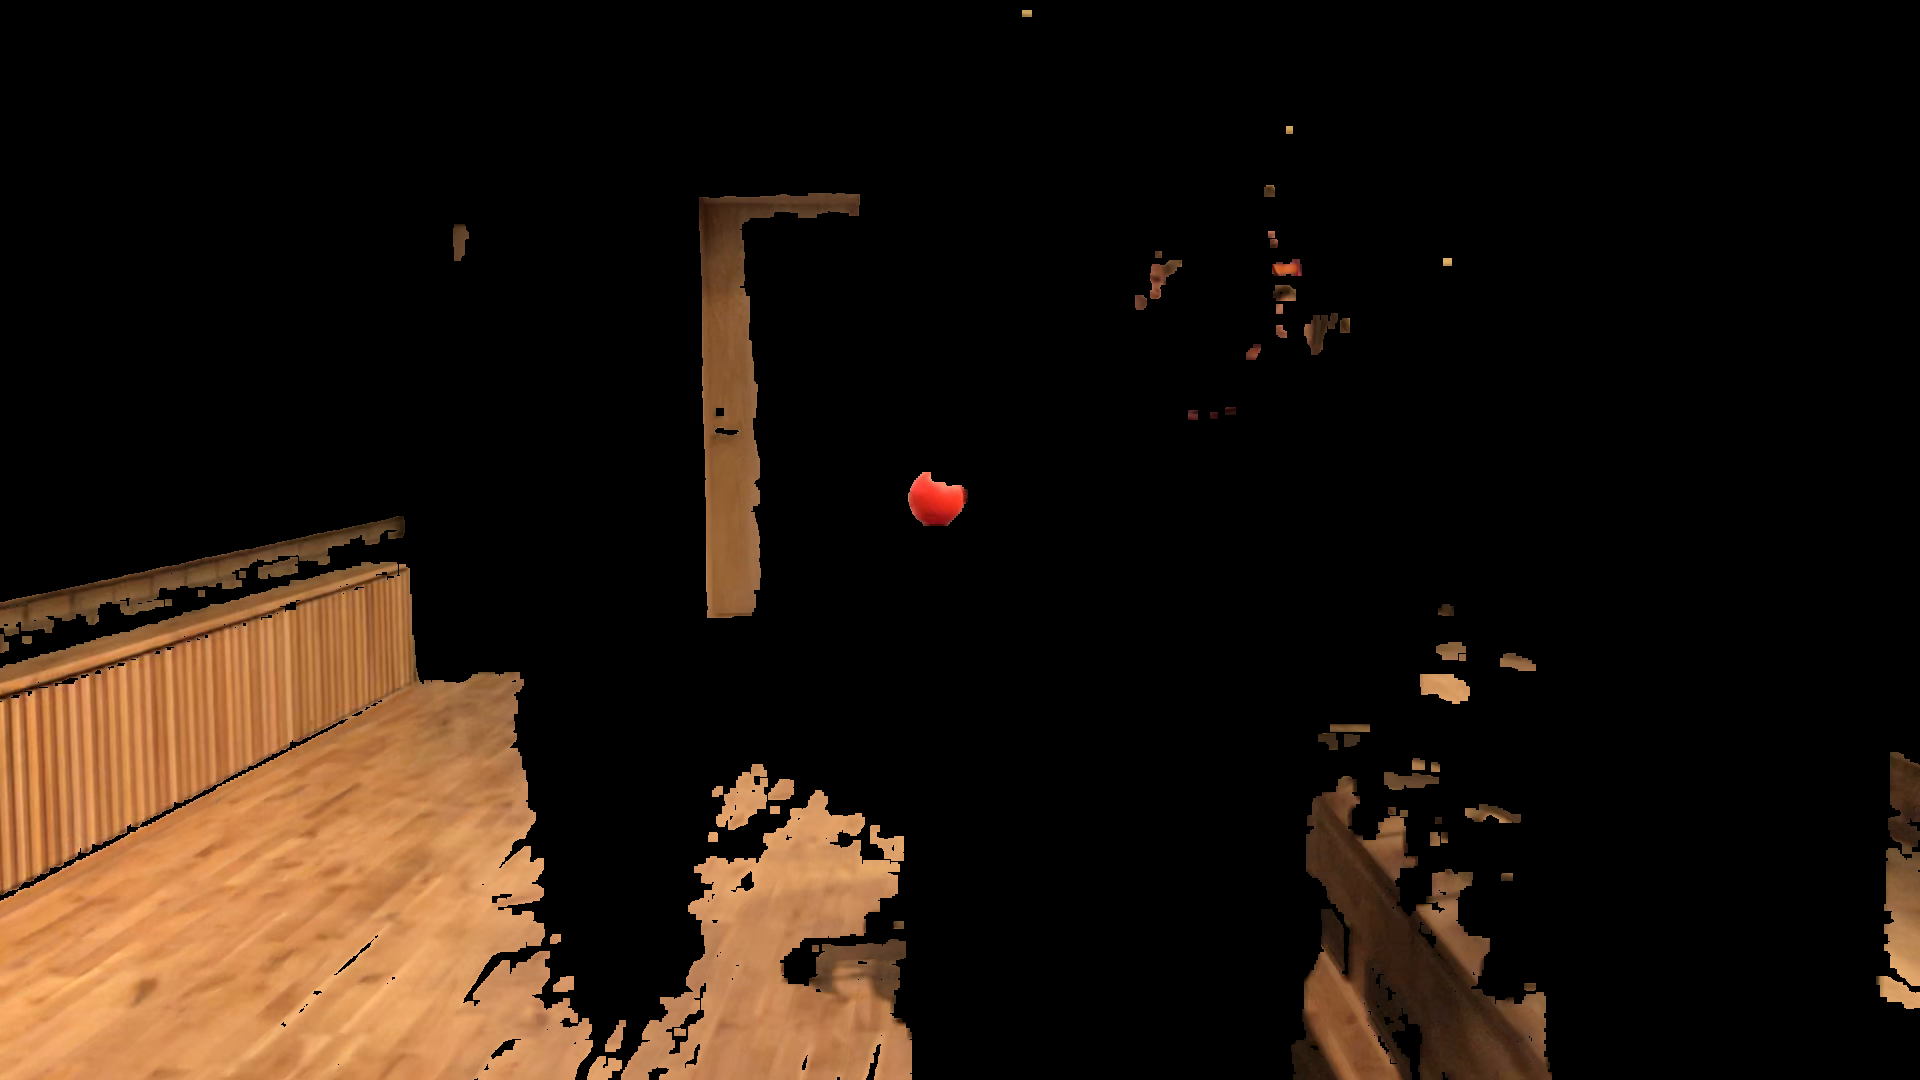Ball: (915, 473, 965, 526)
